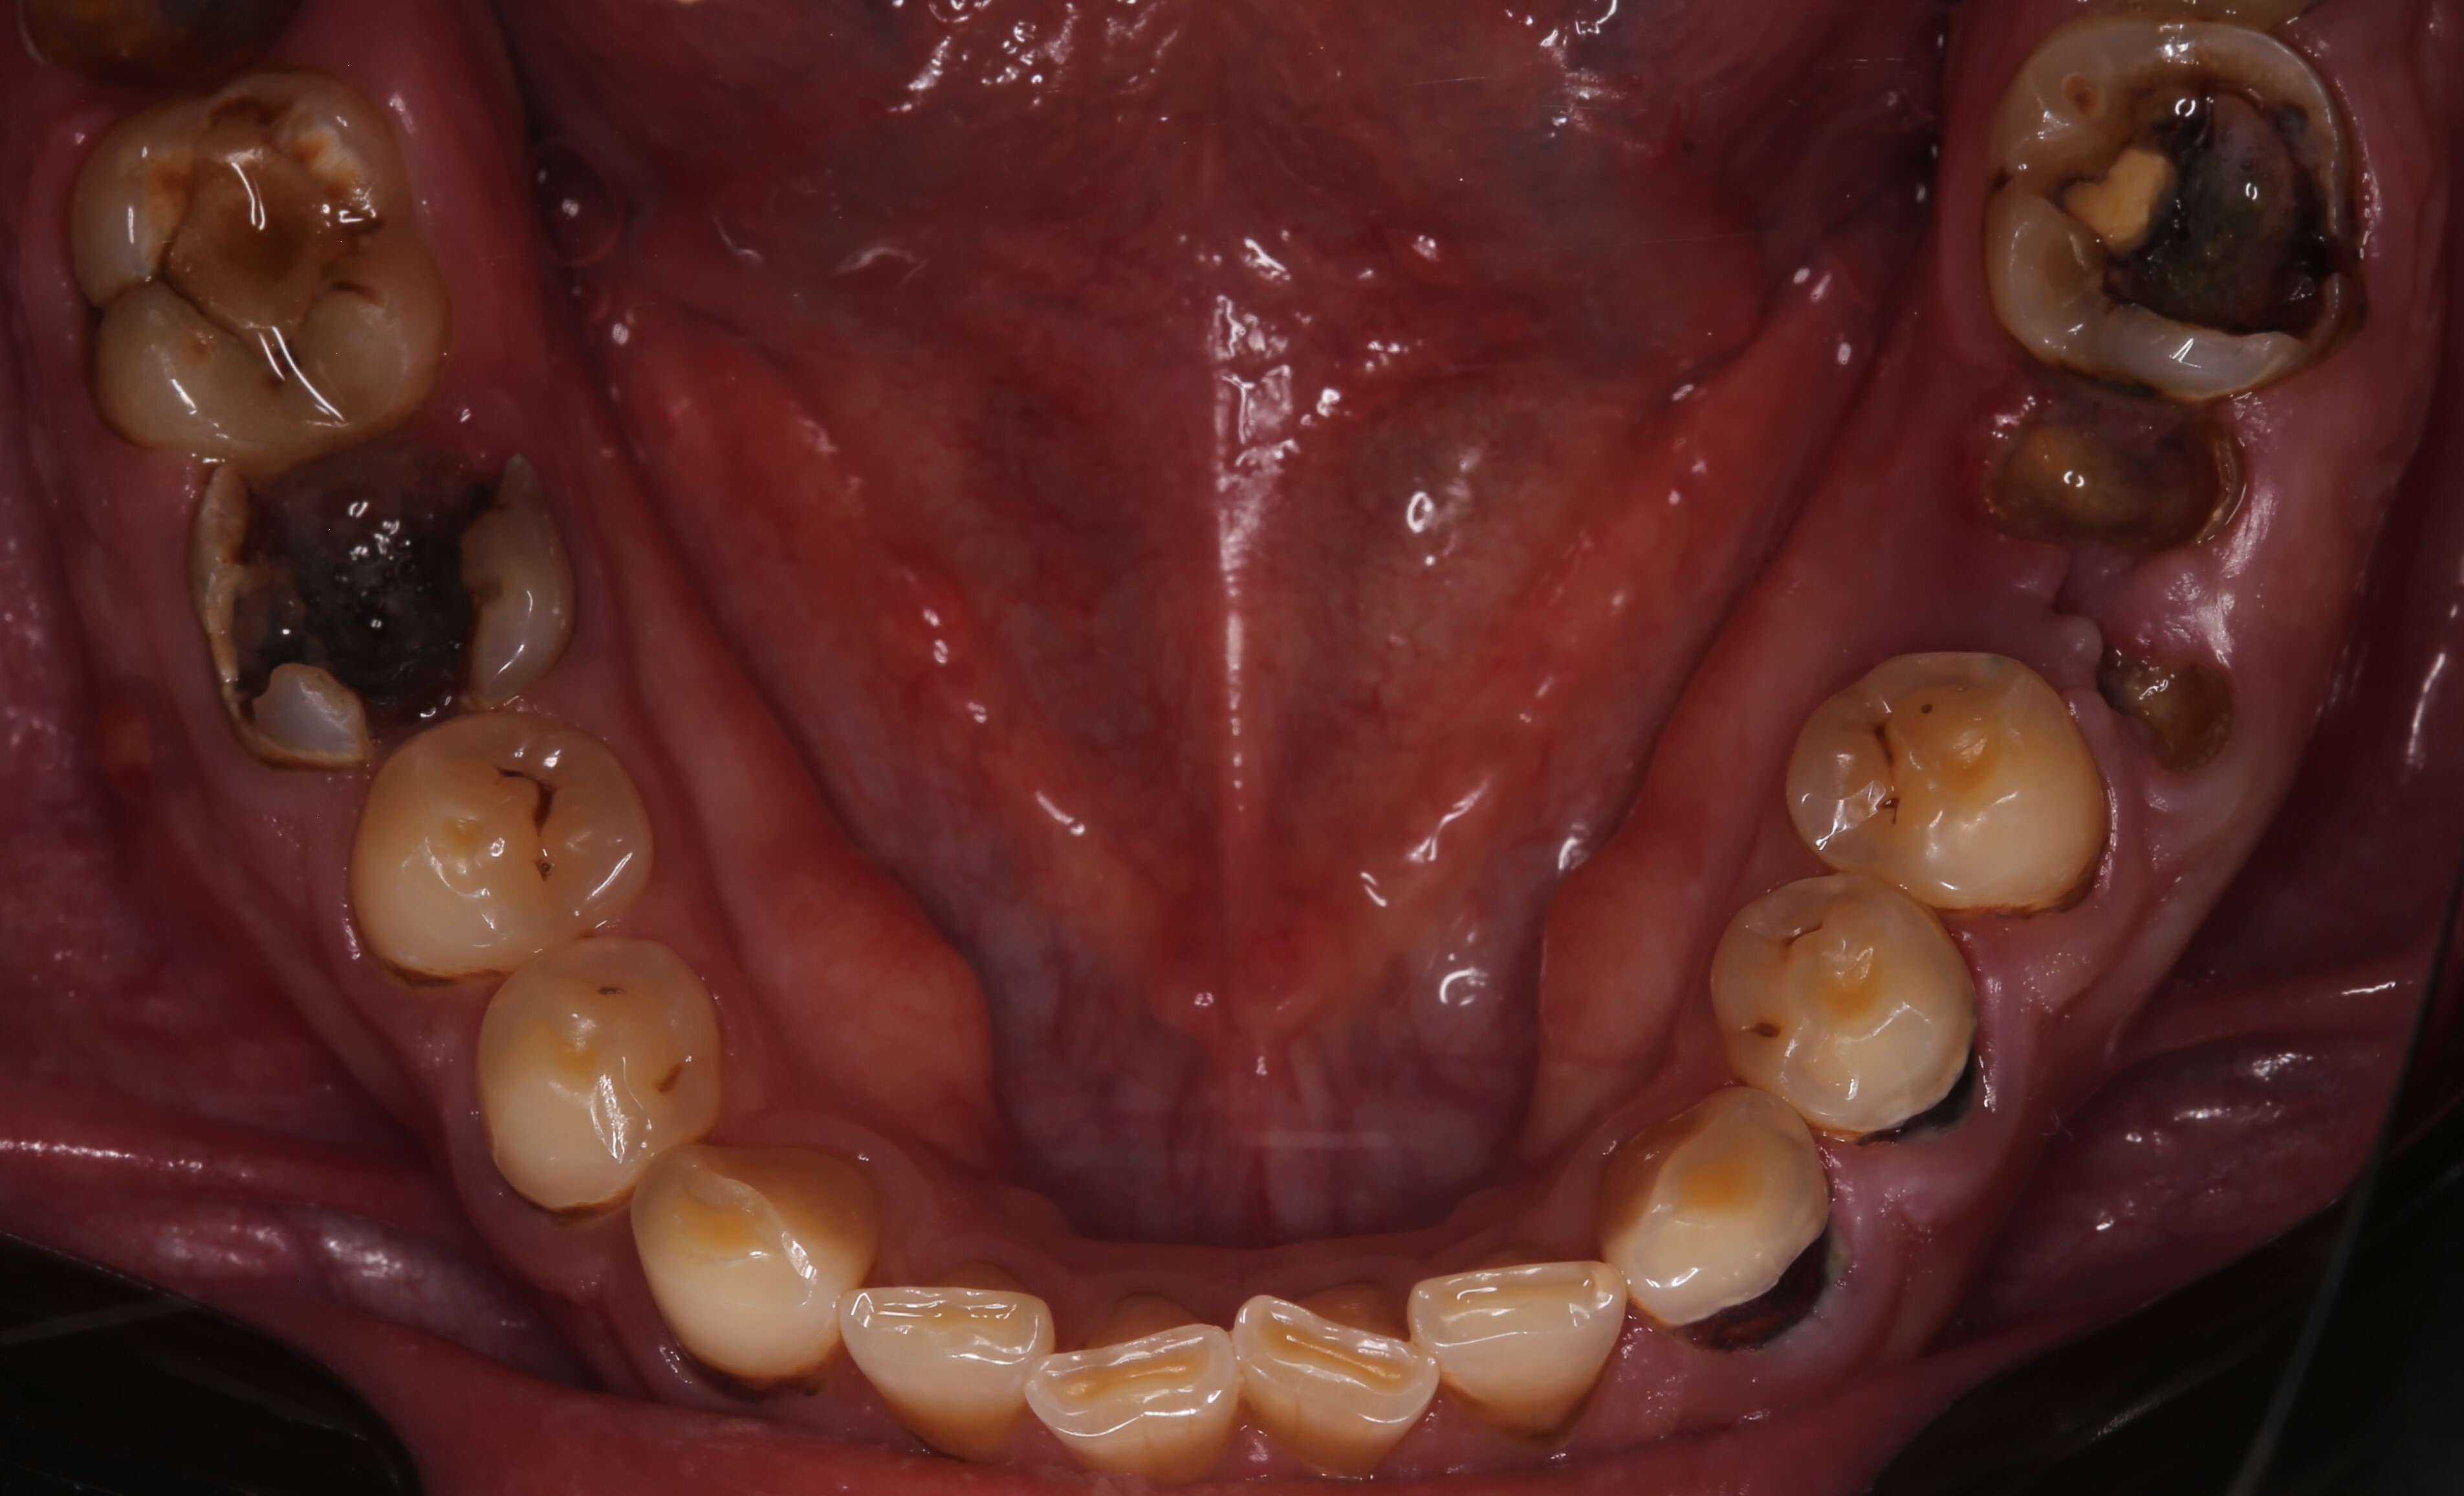LL1BC_decay: (1707, 866, 1987, 1142)
LL2BC_decay: (1781, 644, 2116, 920)
LL2M_decay: (1954, 2, 2380, 405)
LLCI_decay: (1223, 1295, 1438, 1485)
LLC_decay: (1600, 1079, 1837, 1359)
LLLI_decay: (1406, 1250, 1623, 1445)
LR1BC_decay: (472, 933, 718, 1211)
LR1M_decay: (188, 428, 579, 769)
LR2BC_decay: (341, 713, 655, 977)
LR2M_decay: (69, 79, 452, 454)
LRCI_decay: (1026, 1318, 1237, 1473)
LRC_decay: (627, 1139, 880, 1378)
LRLI_decay: (841, 1276, 1056, 1454)
